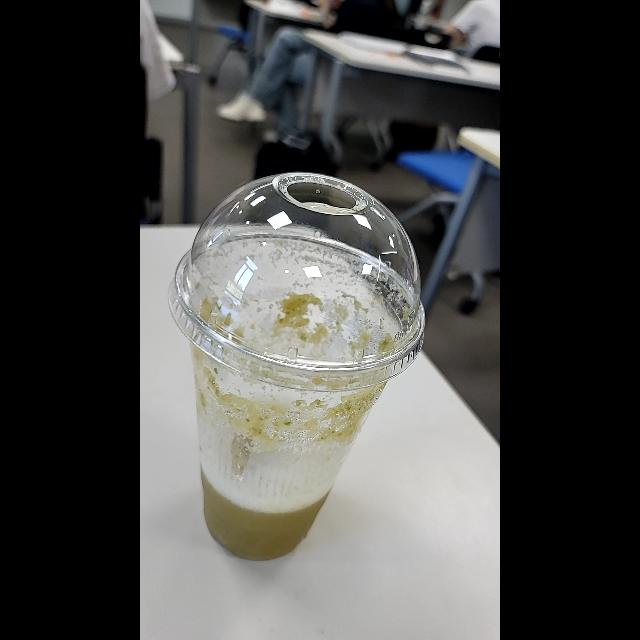plastic_cup: (169, 169, 429, 561)
plastic_cup_lid: (172, 169, 436, 393)
